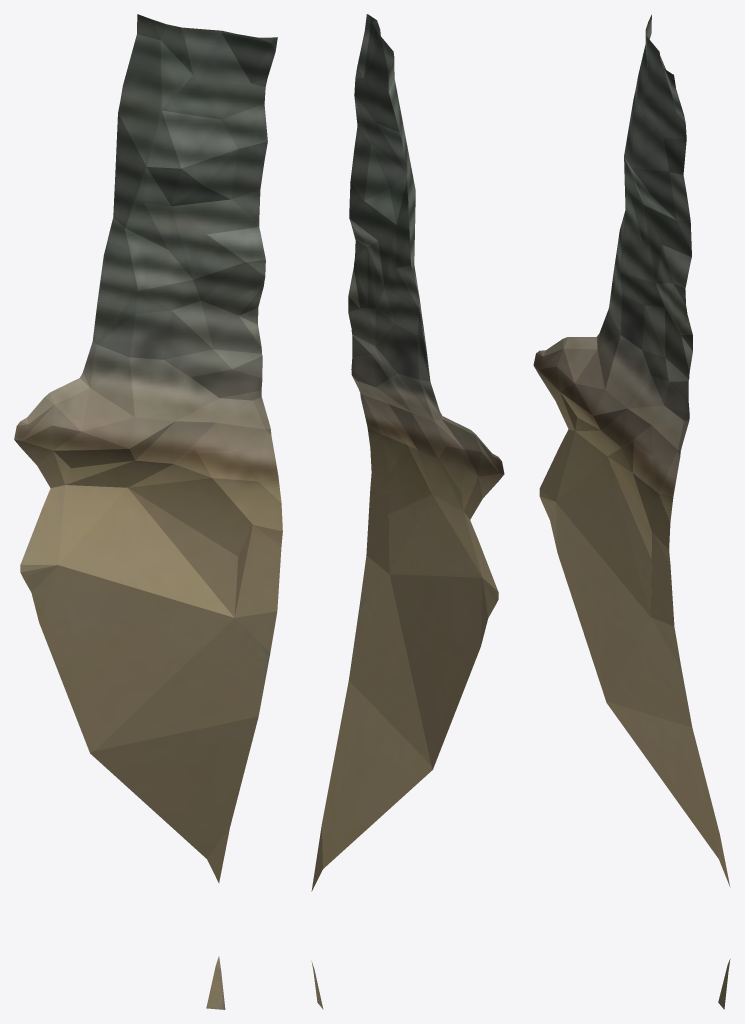
The picture shows the model from 3 angles, left to right: view 1: azimuth 30°, elevation 25°; view 2: azimuth 150°, elevation 25°; view 3: azimuth 330°, elevation 25°; orthographic projection. The views are drawn at different scales.
Bounding box in the file's own units: 0.3552 × 1.67 × 0.1916.
Materials: 1 (1 with a texture image).
